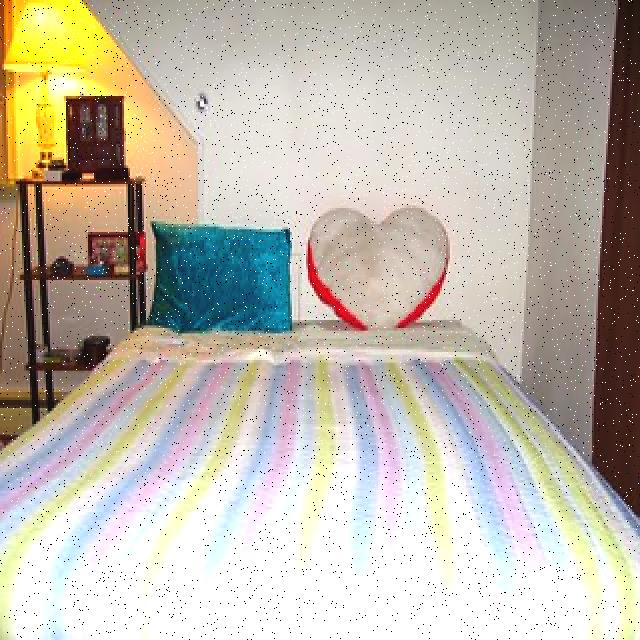bed: (0, 226, 590, 640)
